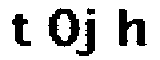0: (43, 7, 81, 48)
h: (115, 6, 151, 51)
j: (79, 6, 101, 60)
t: (9, 9, 34, 51)
